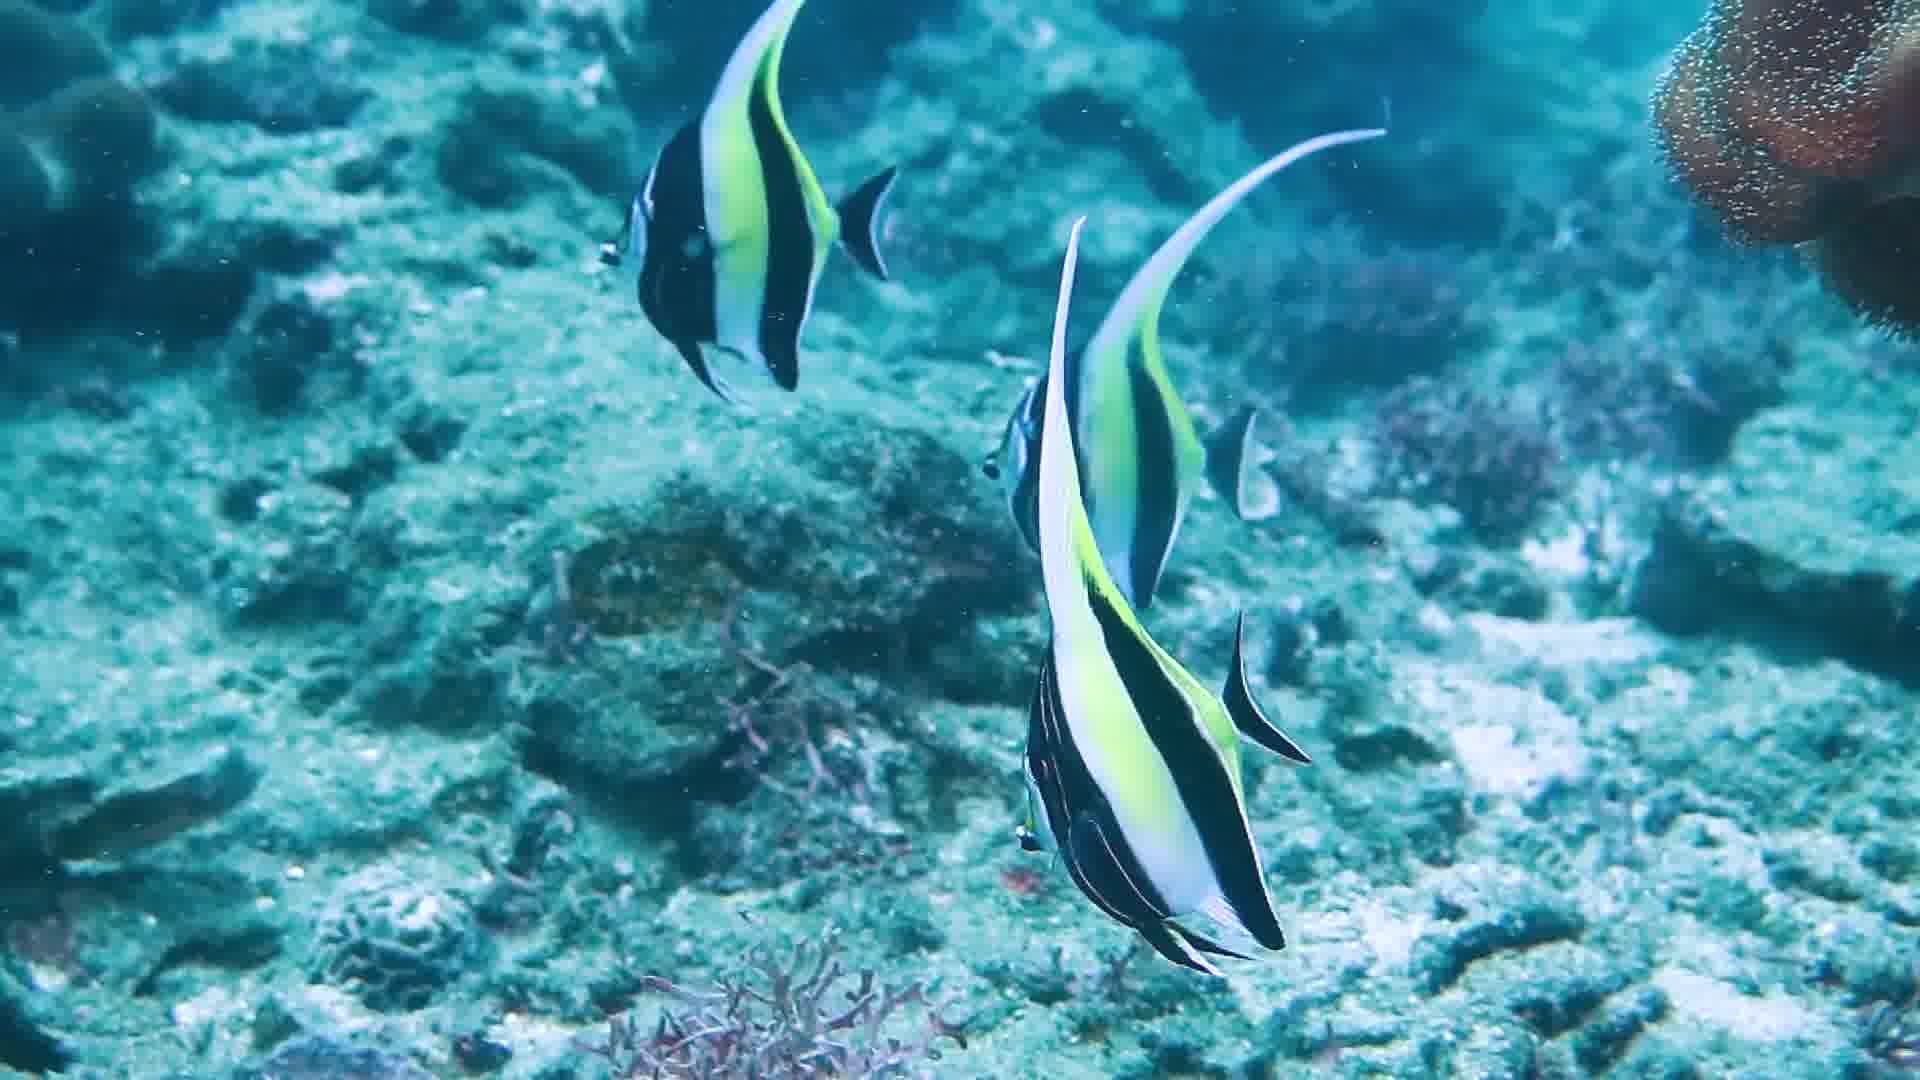Zanclus cornutus: (976, 607, 1356, 976), (948, 295, 1344, 589), (584, 36, 889, 384)
